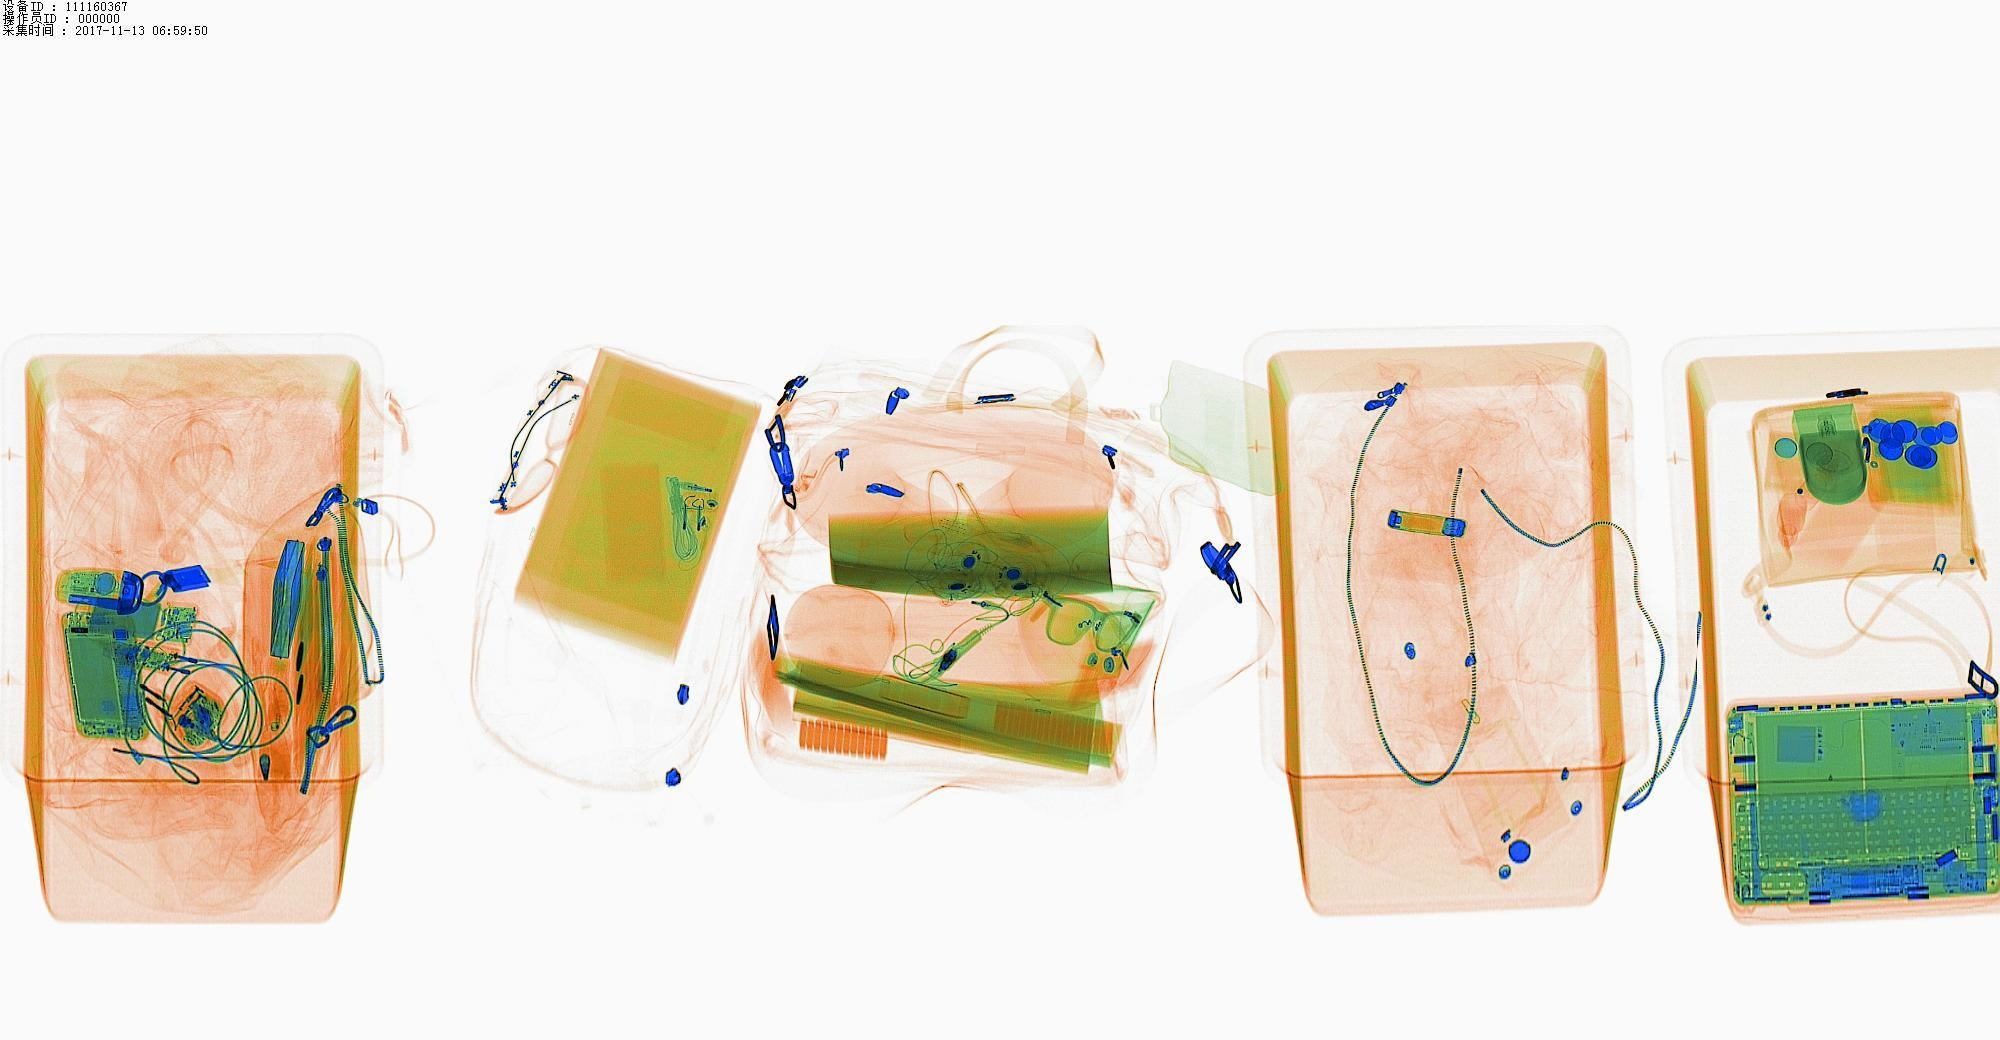coreless: (85, 598, 190, 640)
